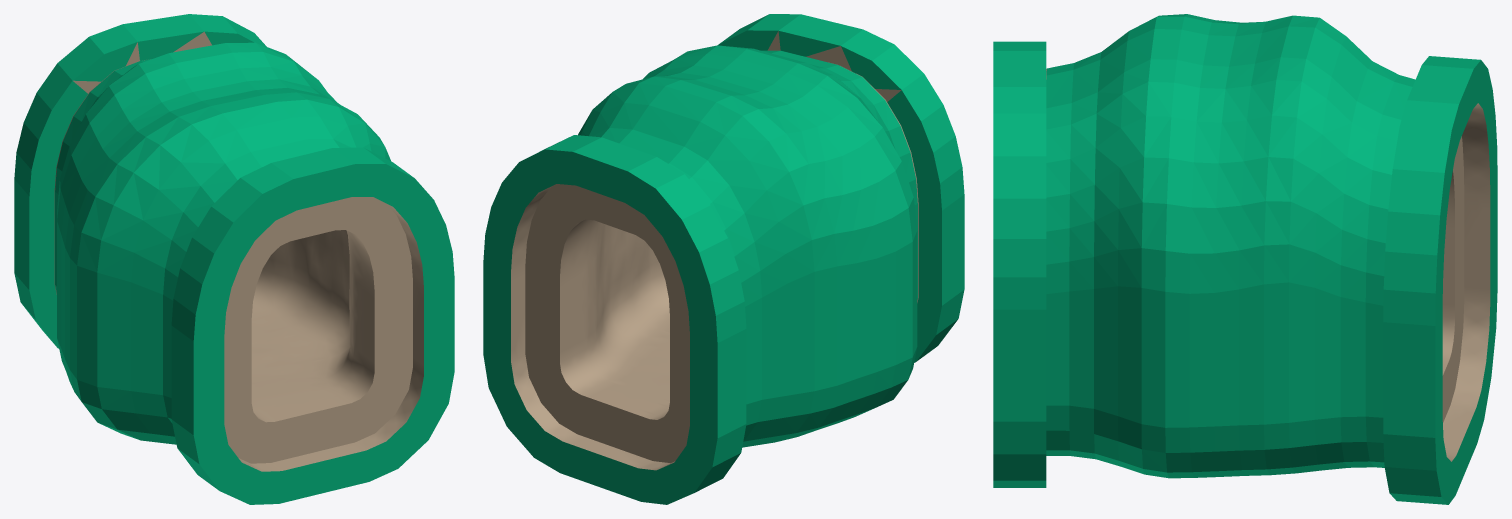
3 renders of one model, left to right at view 1: azimuth 30°, elevation 25°; view 2: azimuth 150°, elevation 25°; view 3: azimuth 270°, elevation 25°, orthographic. The views are drawn at different scales.
Parts seen in each view (by area): view 1: TT_Curve_10_C_LOD0; view 2: TT_Curve_10_C_LOD0; view 3: TT_Curve_10_C_LOD0.
Part boxes in pixels (x1,y1,x2,y2): TT_Curve_10_C_LOD0: (14, 14, 454, 504); TT_Curve_10_C_LOD0: (483, 14, 964, 504); TT_Curve_10_C_LOD0: (993, 14, 1497, 504).
Size of the model in its own units: 419 by 431 by 477.
